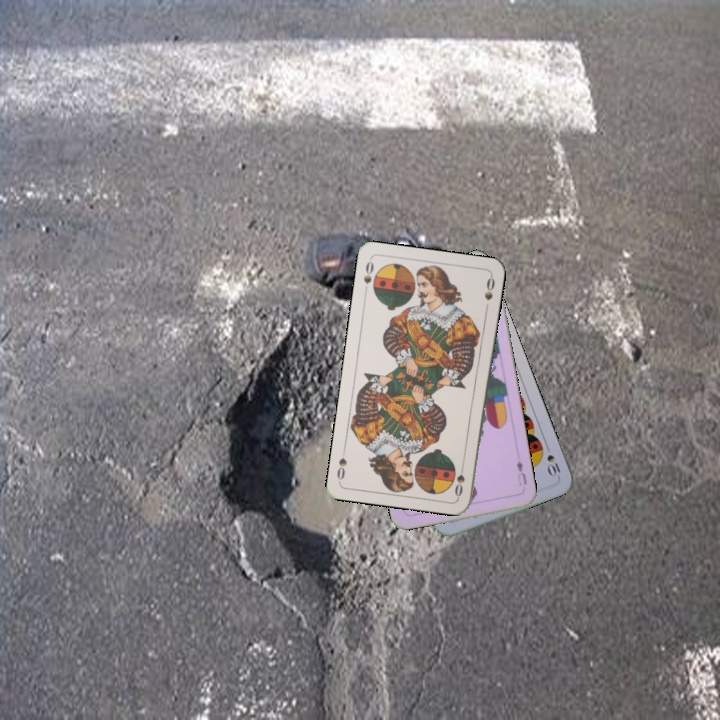EU: (512, 456, 529, 488)
S10: (541, 440, 563, 480)
SO: (450, 459, 467, 499), (359, 257, 376, 296)
